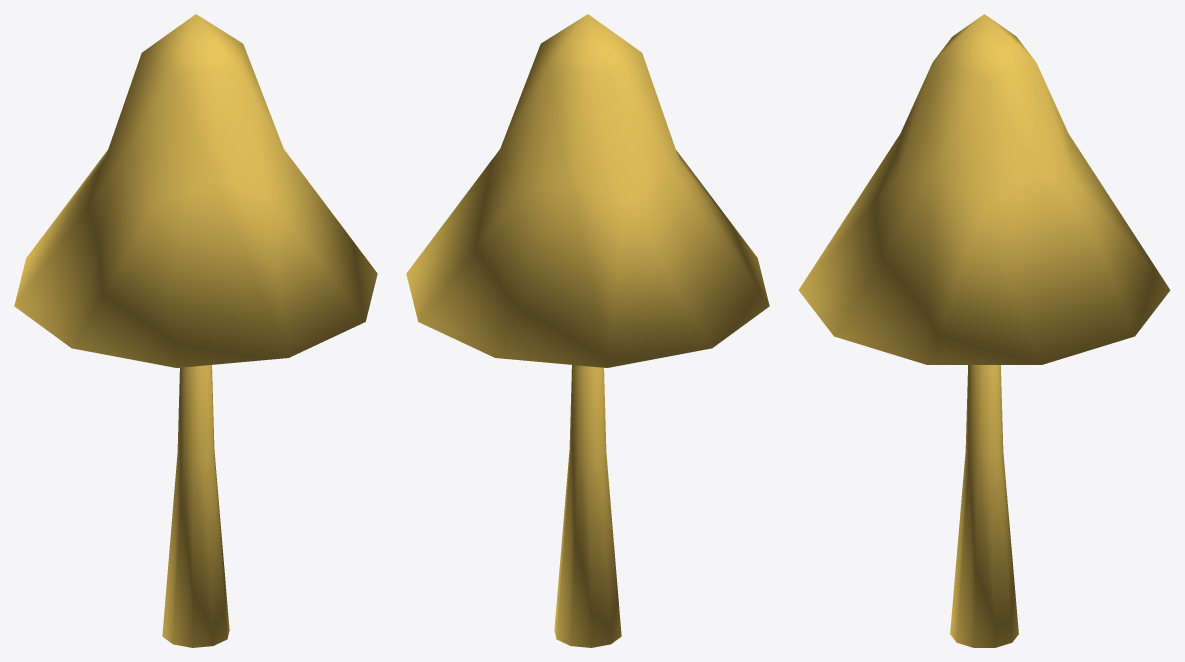
File: LongcapMushroom.fbx
The picture shows the model from 3 angles, left to right: view 1: azimuth 30°, elevation 25°; view 2: azimuth 150°, elevation 25°; view 3: azimuth 270°, elevation 25°; orthographic projection.
Parts seen in each view (by area): view 1: Mushroom; view 2: Mushroom; view 3: Mushroom.
Boxes of the visible parts, x1,y1,x2,y2 form: Mushroom: (14,14,377,647); Mushroom: (406,14,769,647); Mushroom: (798,14,1170,647).
Bounding box in the file's own units: 36.81 × 71.19 × 38.7.
